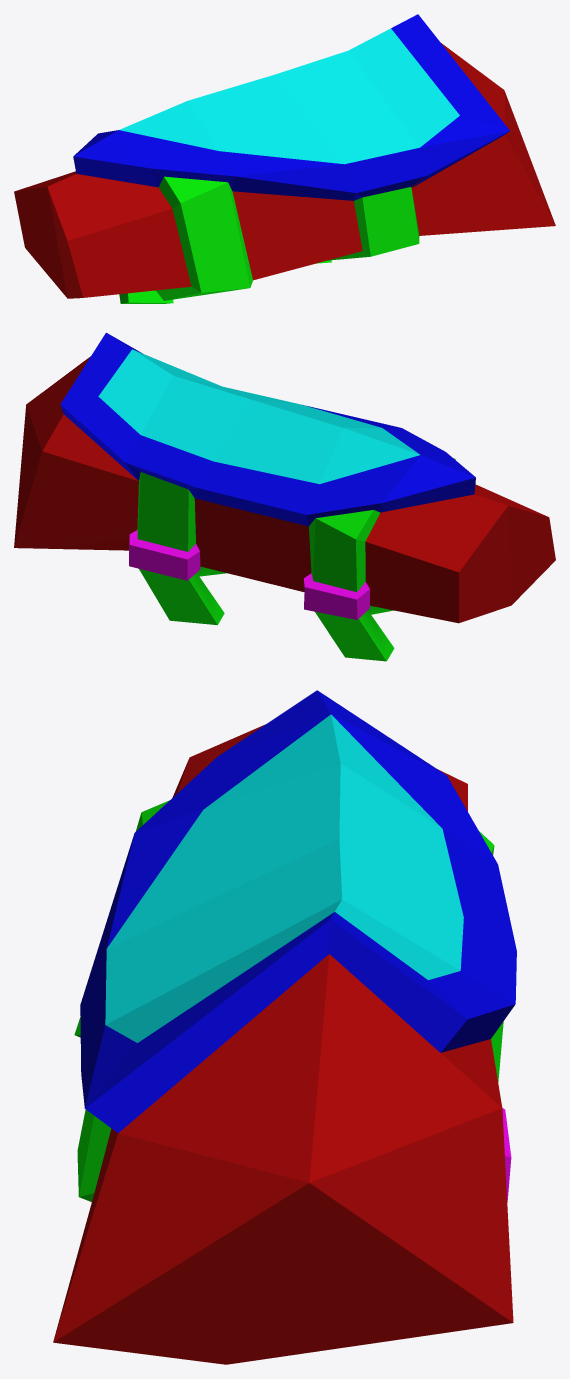
The model's file is Chr_ArmUpperRight_Male_Static_13.fbx.
3 renders of one model, top to bottom at view 1: azimuth 30°, elevation 25°; view 2: azimuth 150°, elevation 25°; view 3: azimuth 270°, elevation 25°, orthographic. The views are drawn at different scales.
Parts seen in each view (by area): view 1: Chr_ArmUpperRight_Male_13; view 2: Chr_ArmUpperRight_Male_13; view 3: Chr_ArmUpperRight_Male_13.
Part boxes in pixels (x1,y1,x2,y2): Chr_ArmUpperRight_Male_13: [14, 14, 555, 303]; Chr_ArmUpperRight_Male_13: [14, 332, 555, 661]; Chr_ArmUpperRight_Male_13: [53, 690, 516, 1364].
Size of the model in its own units: 33.45 by 16.58 by 14.39.
